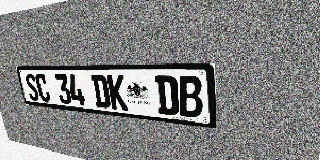3: (54, 74, 72, 105)
4: (67, 74, 86, 106)
B: (178, 76, 203, 118)
C: (34, 74, 51, 102)
D: (155, 76, 179, 116), (91, 75, 111, 109)
K: (107, 75, 128, 111)
S: (24, 74, 40, 101)
